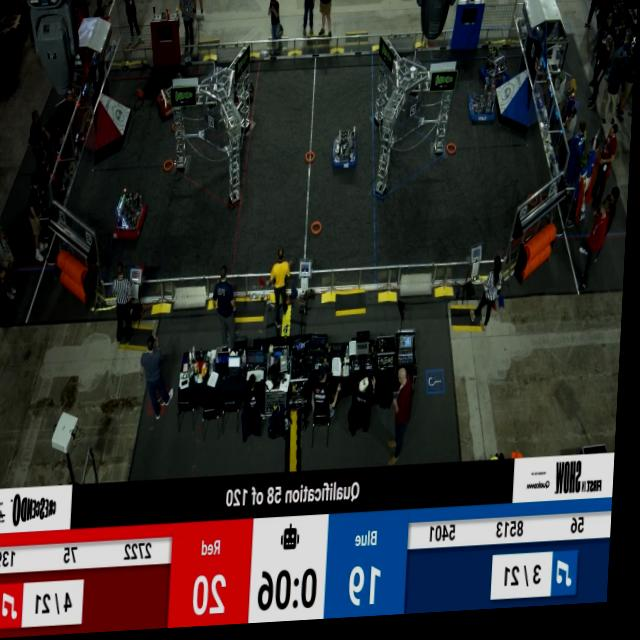Robot: (475, 44, 518, 101), (154, 66, 192, 128), (114, 186, 153, 245), (468, 78, 503, 131), (332, 129, 362, 180)
